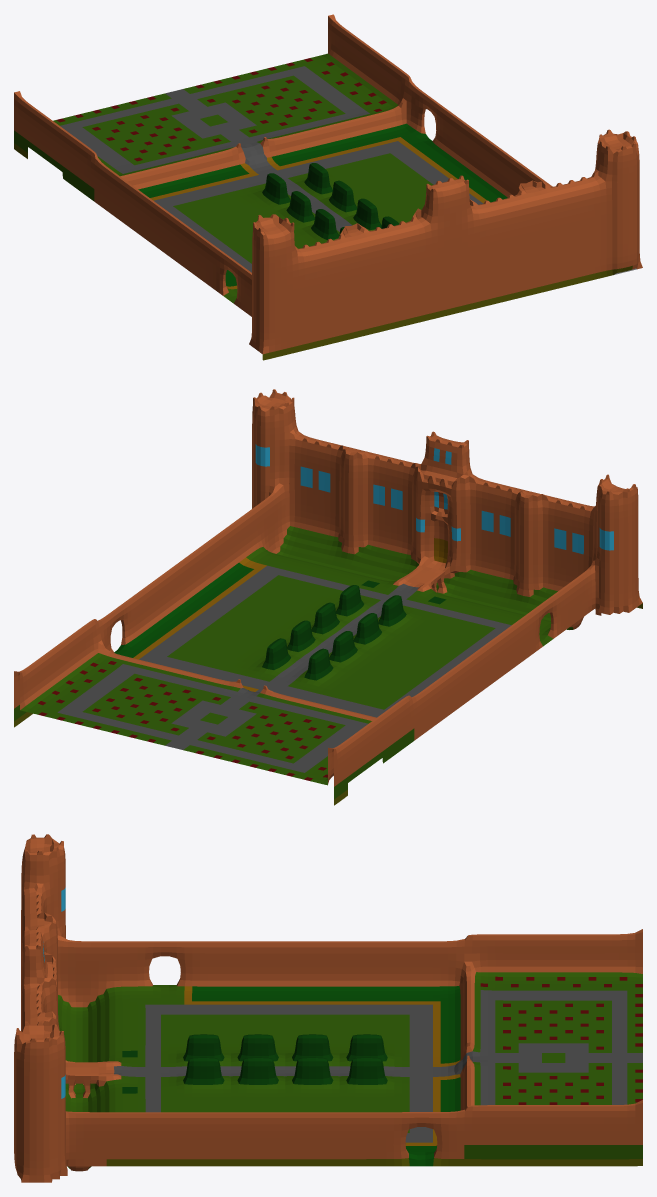
File: castleTest.fbx
3 views of the same model, one above another, from view 1: azimuth 30°, elevation 25°; view 2: azimuth 150°, elevation 25°; view 3: azimuth 270°, elevation 25° (orthographic). The views are drawn at different scales.
Parts seen in each view (by area): view 1: gardenLawnAndRoseGarden_11_19; view 2: gardenLawnAndRoseGarden_11_19; view 3: gardenLawnAndRoseGarden_11_19.
Part boxes in pixels (bbox=[...]): gardenLawnAndRoseGarden_11_19: bbox=[14, 14, 642, 360]; gardenLawnAndRoseGarden_11_19: bbox=[14, 389, 642, 805]; gardenLawnAndRoseGarden_11_19: bbox=[14, 834, 642, 1182].
Bounding box in the file's own units: 707 × 249 × 908.
